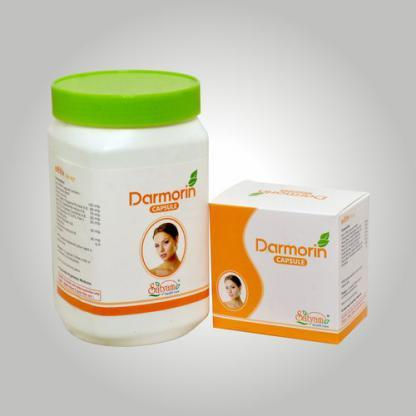jar: (48, 70, 209, 346)
